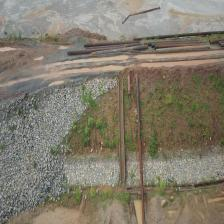rock_toe: (0, 82, 84, 222), (143, 147, 224, 185), (65, 159, 120, 186), (84, 77, 117, 97), (127, 160, 140, 186)
slope_drain: (118, 81, 125, 187)
